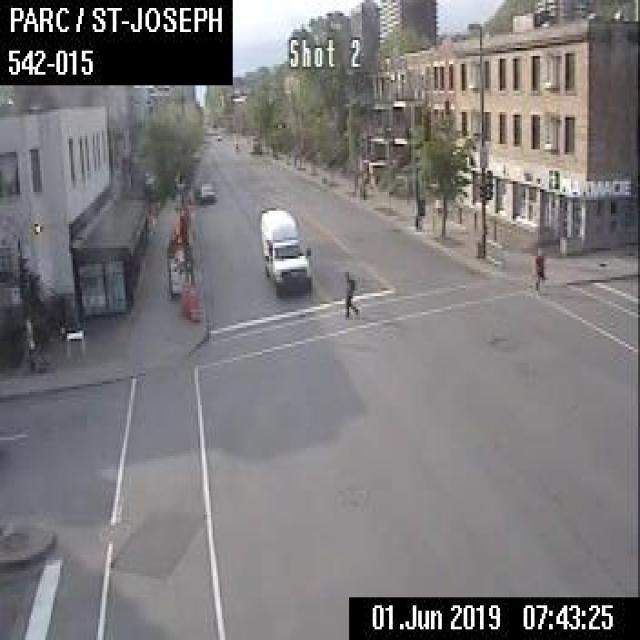construction: (179, 280, 189, 314), (189, 290, 198, 320)
pedestrian: (342, 267, 358, 317), (533, 245, 545, 291)
vehicle: (258, 202, 311, 290), (198, 181, 214, 200)
